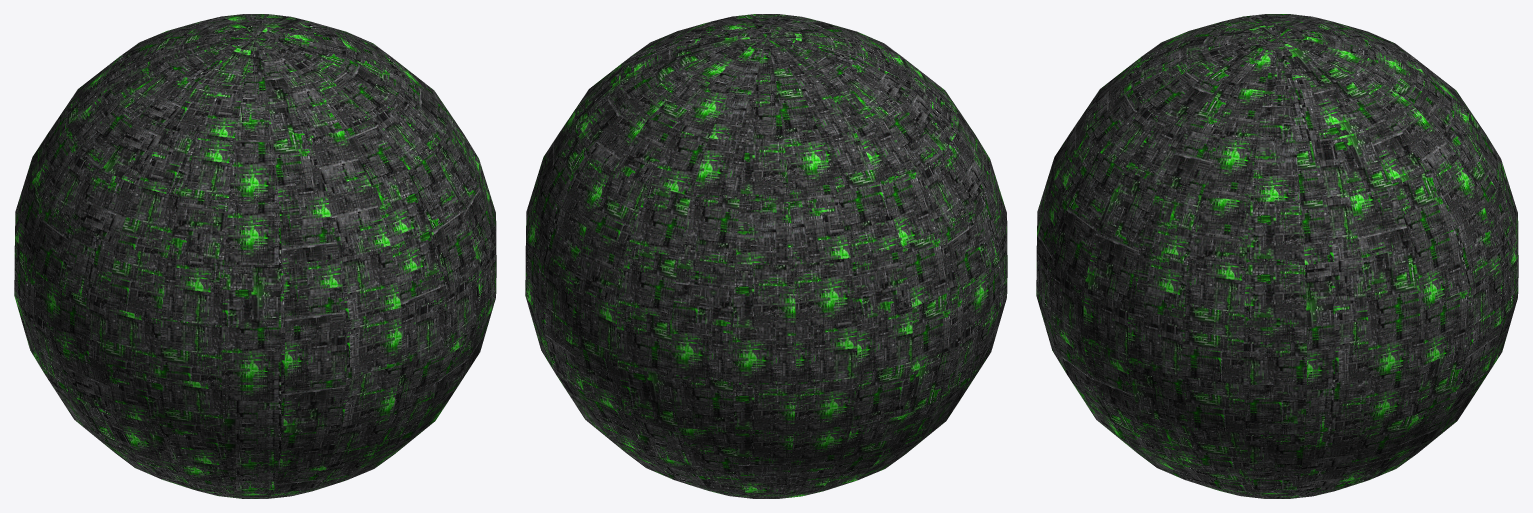
3 renders of one model, left to right at view 1: azimuth 30°, elevation 25°; view 2: azimuth 150°, elevation 25°; view 3: azimuth 270°, elevation 25°, orthographic.
Parts seen in each view (by area): view 1: SketchUp; view 2: SketchUp; view 3: SketchUp.
Boxes of the visible parts, bbox=[...] form: SketchUp: bbox=[14, 14, 496, 498]; SketchUp: bbox=[525, 14, 1007, 498]; SketchUp: bbox=[1036, 14, 1518, 498].
Bounding box in the file's own units: 7.04 × 7.04 × 7.03.
1 material, 1 textured.
